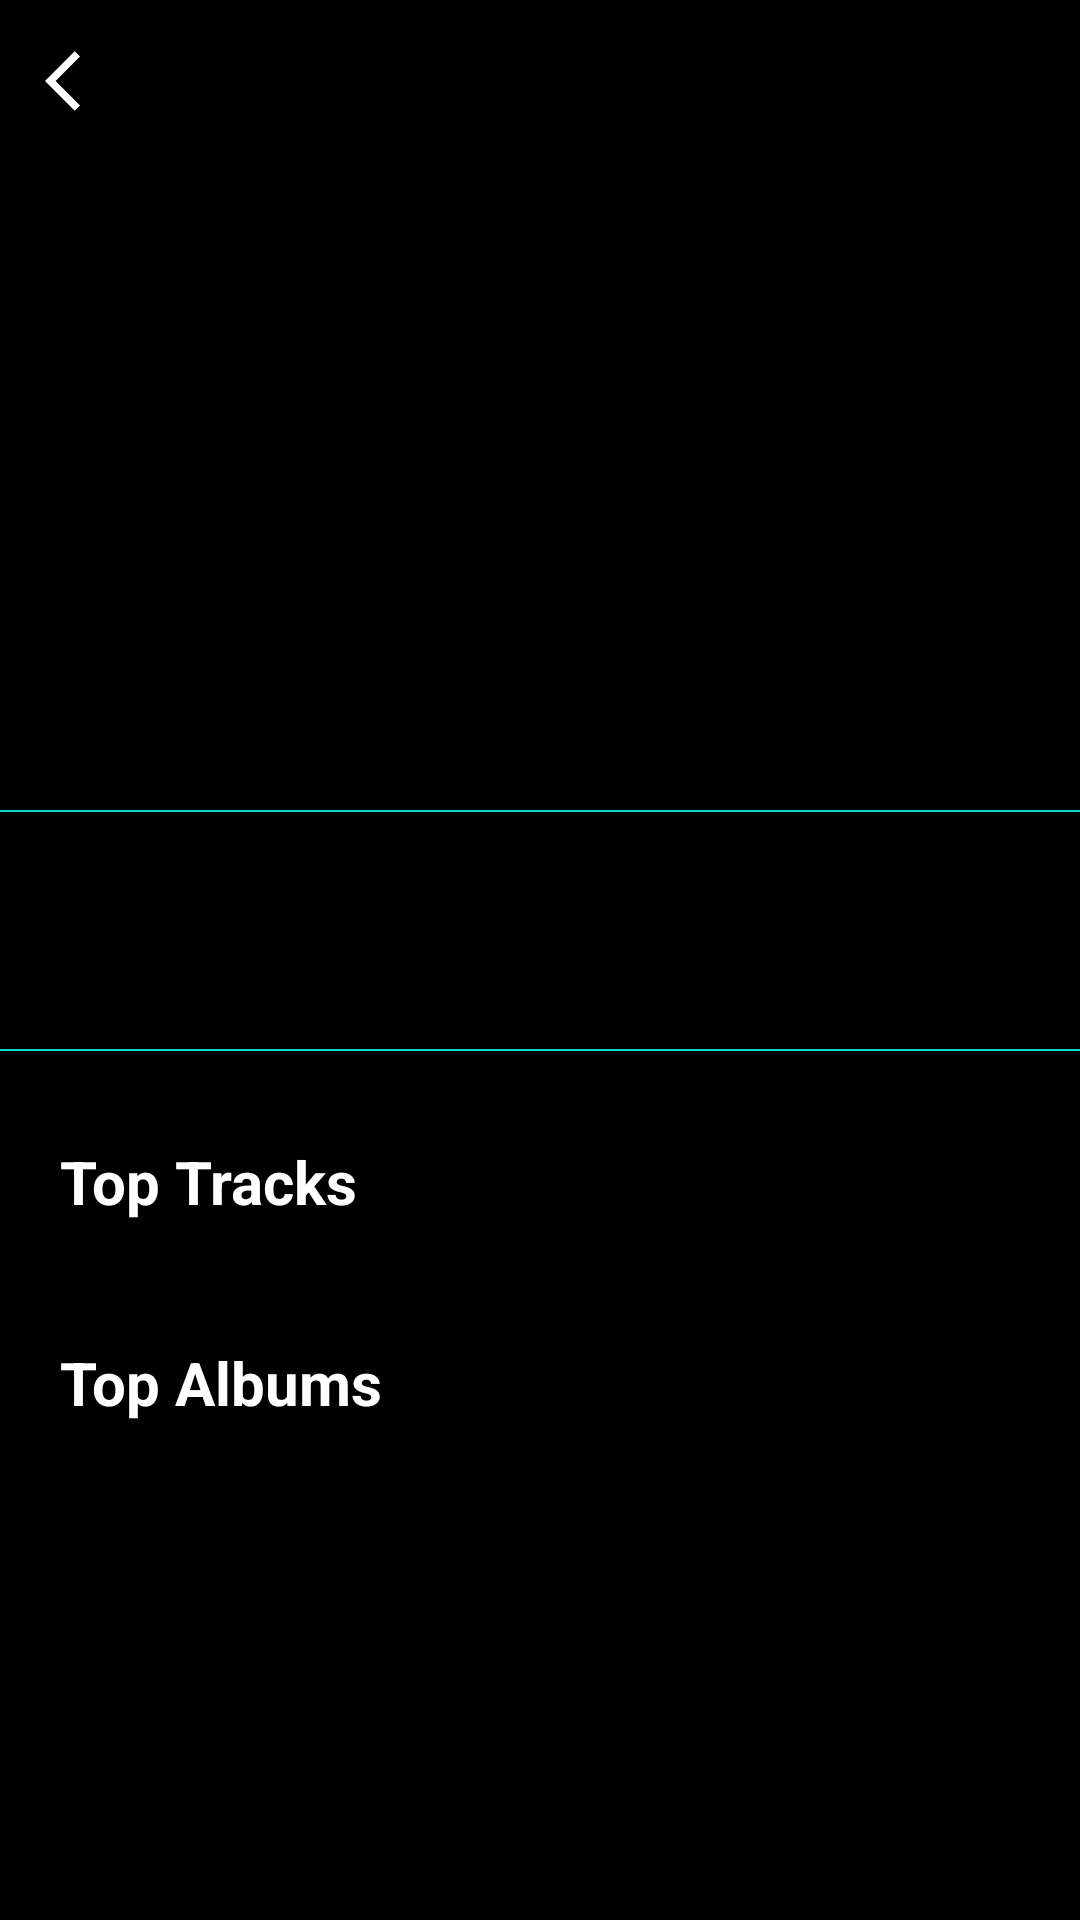

Locate icon controls on the screen. Image size 1080px×1920px, boxes as [x1, y1, x2, y2].
arrow back: [45, 51, 80, 111]
